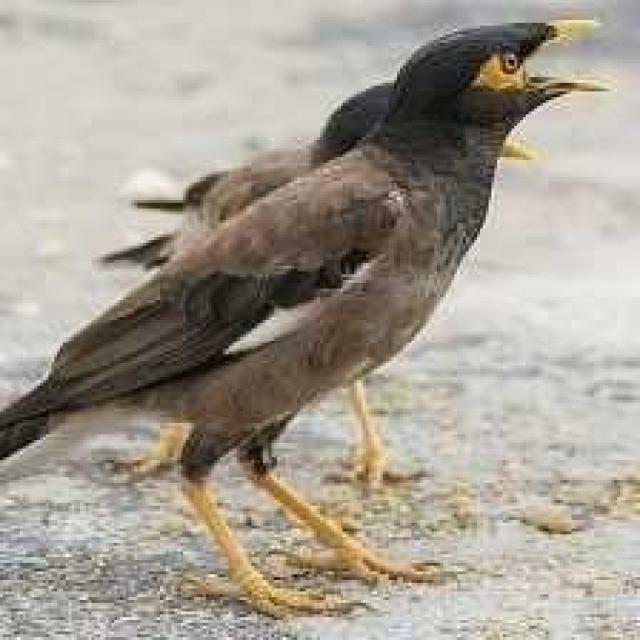bird: (4, 16, 631, 628)
